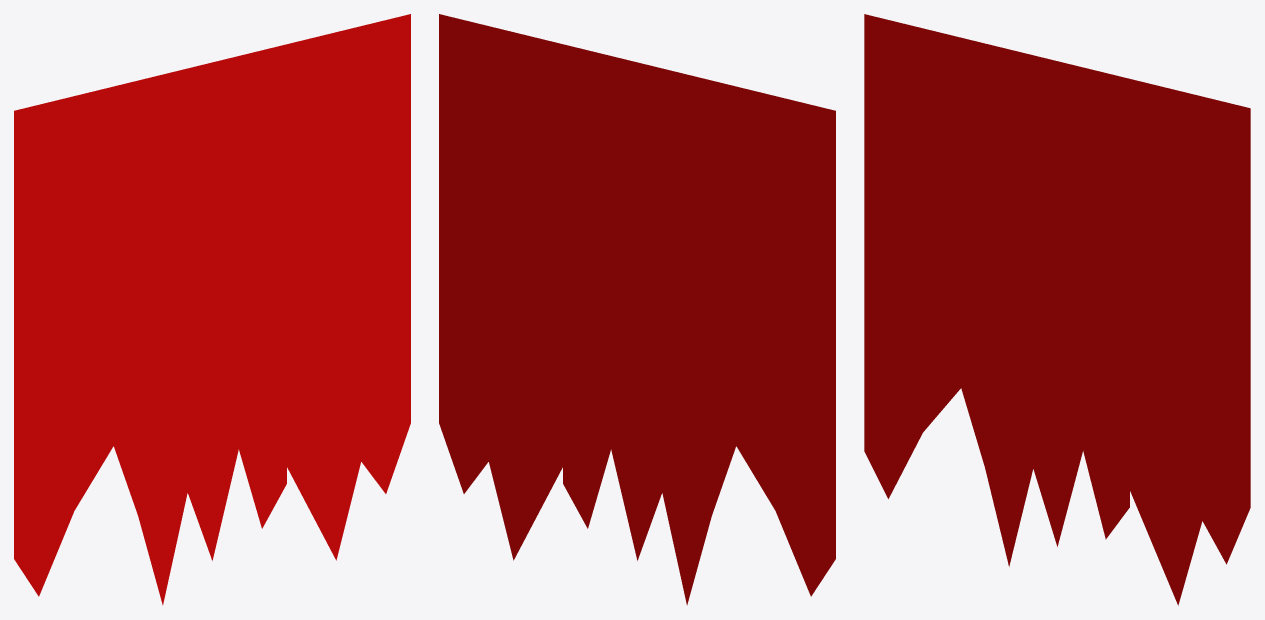
Rendered from FireCloth.fbx.
The picture shows the model from 3 angles, left to right: view 1: azimuth 30°, elevation 25°; view 2: azimuth 150°, elevation 25°; view 3: azimuth 330°, elevation 25°; orthographic projection. The views are drawn at different scales.
Visible parts, largest first — view 1: Plane002; view 2: Plane002; view 3: Plane002.
Part boxes in pixels (x1,y1,x2,y2): Plane002: (14, 14, 410, 605); Plane002: (439, 14, 835, 605); Plane002: (864, 14, 1250, 605).
Size of the model in its own units: 78.74 by 101 by 3.92e-06.
